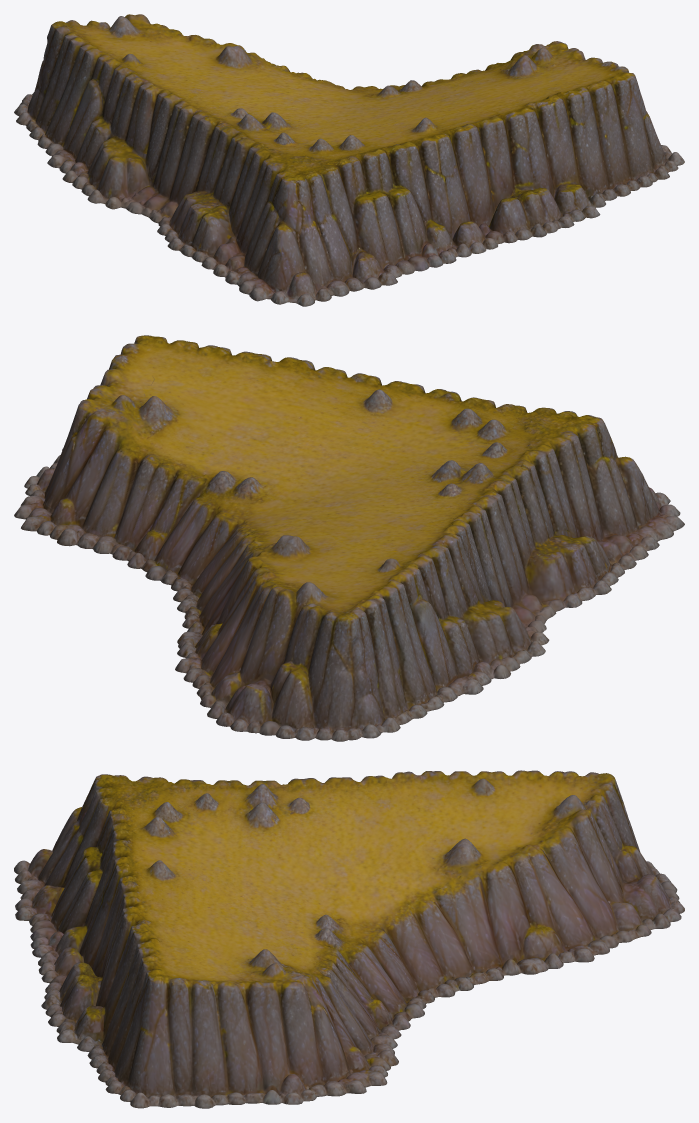
File: cliff_headland_4k_texture.glb
3 views of the same model, one above another, from view 1: azimuth 30°, elevation 25°; view 2: azimuth 150°, elevation 25°; view 3: azimuth 270°, elevation 25° (orthographic). The views are drawn at different scales.
Visible parts, largest first — view 1: material; view 2: material; view 3: material.
Part boxes in pixels (x1,y1,x2,y2): material: (14, 14, 684, 306); material: (14, 335, 684, 741); material: (14, 770, 684, 1108).
Bounding box in the file's own units: 0.9078 × 0.1767 × 0.9512.
Materials: 1 (1 with a texture image).
